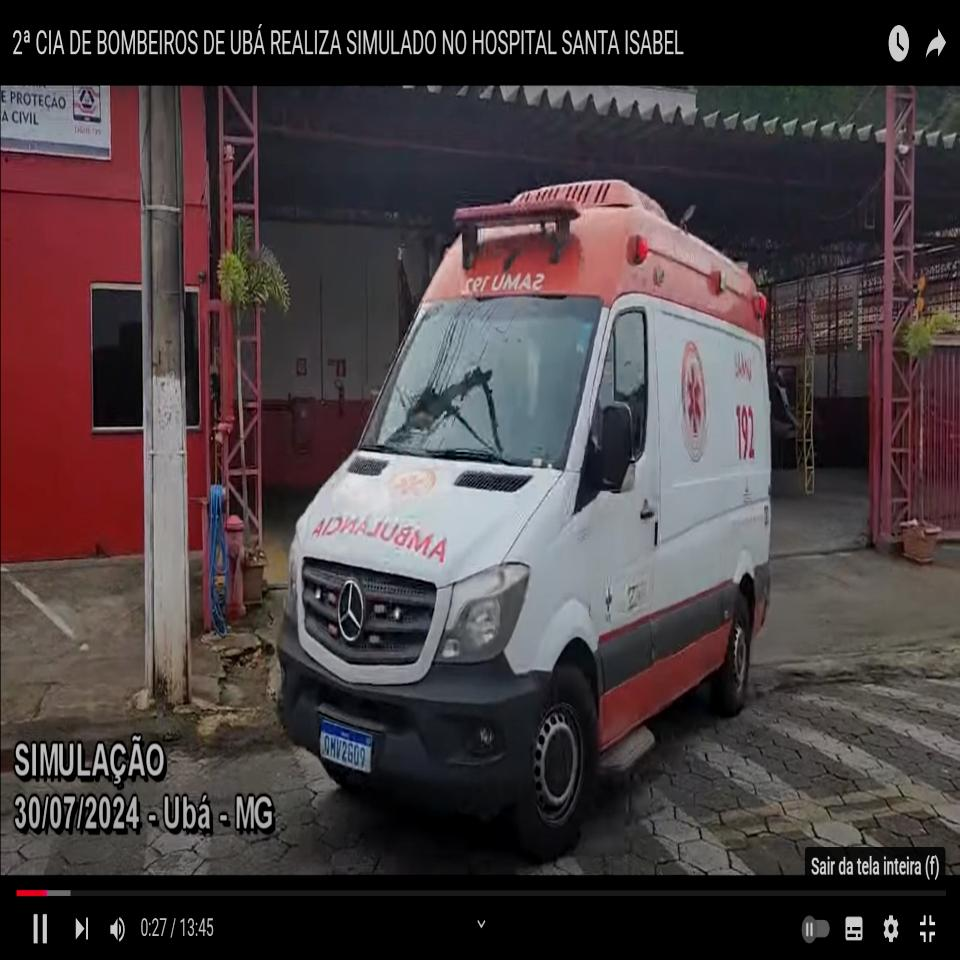ambulancia: (276, 183, 776, 862)
